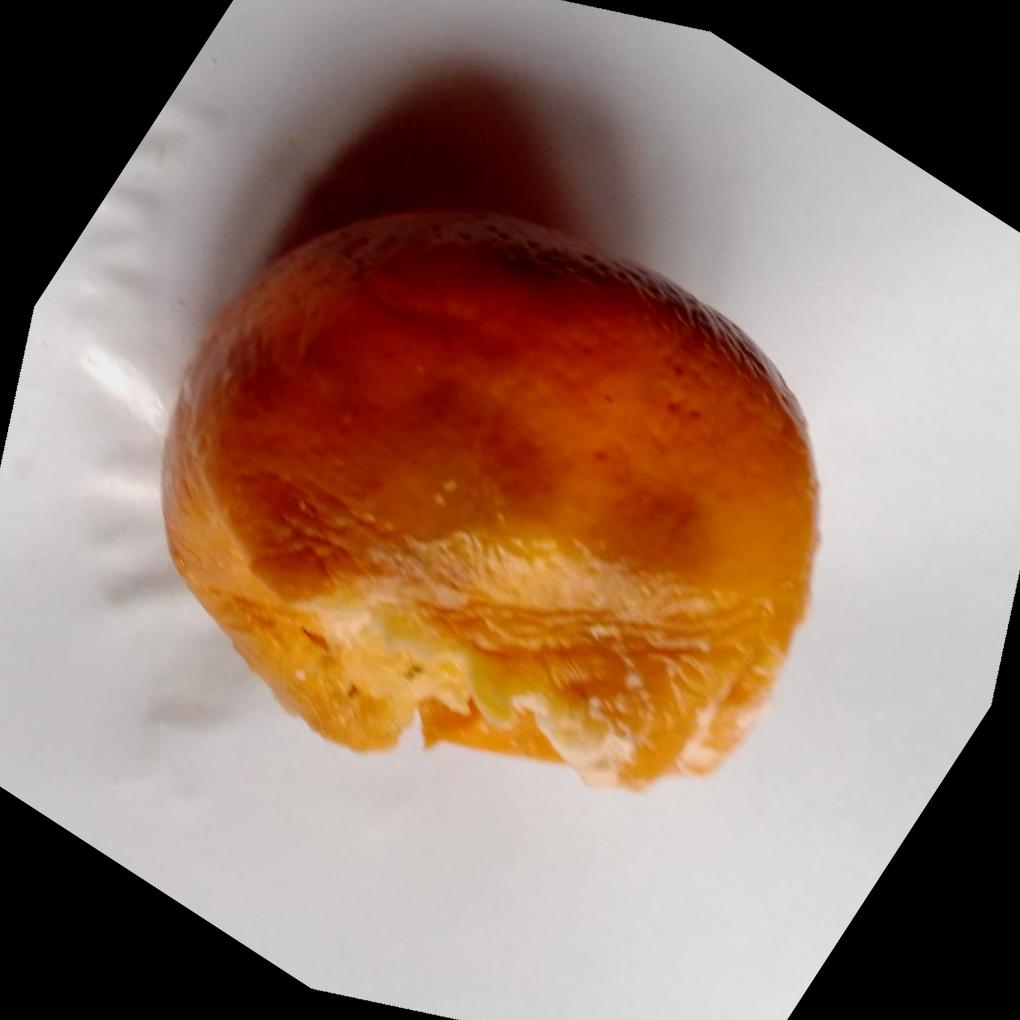FreshOrange: (155, 207, 820, 797)
